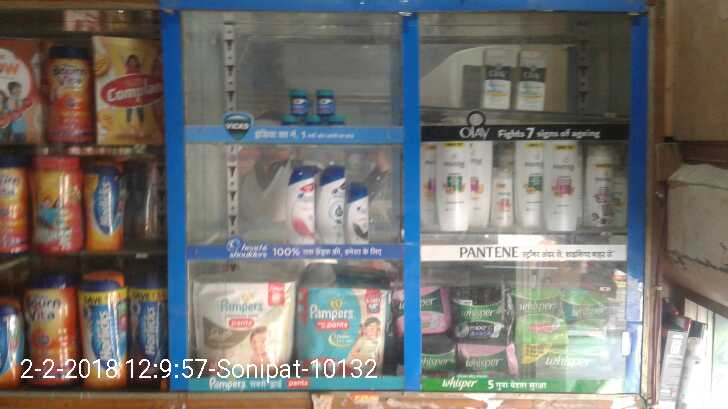beauty: (549, 130, 581, 237), (437, 139, 469, 233), (587, 140, 617, 230), (317, 165, 345, 248), (288, 165, 317, 245), (344, 180, 379, 244), (515, 52, 552, 111), (482, 44, 512, 112), (488, 164, 513, 228)
pharmacy: (193, 275, 292, 381), (303, 266, 392, 371), (520, 333, 617, 382), (445, 278, 507, 339), (574, 288, 631, 337), (452, 338, 517, 380), (513, 284, 566, 332), (284, 83, 310, 120), (315, 84, 335, 121)
